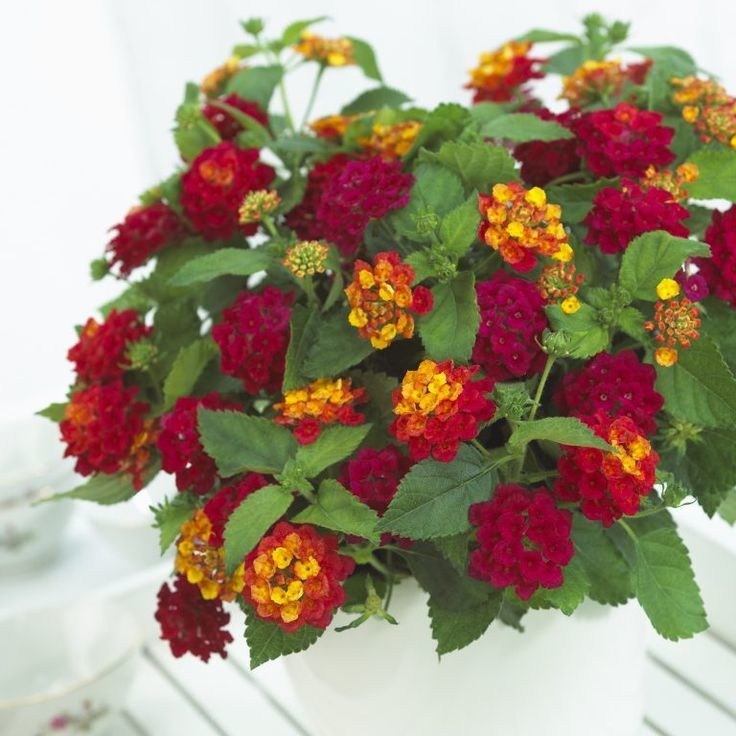lantana: (505, 296, 534, 330), (494, 538, 524, 564), (504, 346, 531, 374), (616, 385, 641, 413), (582, 469, 607, 496), (520, 551, 544, 578), (595, 383, 616, 413), (294, 556, 320, 580), (684, 276, 708, 298), (240, 311, 260, 334), (272, 549, 292, 569), (527, 186, 547, 205), (494, 331, 512, 351), (395, 286, 411, 308), (349, 307, 365, 327), (488, 206, 506, 223), (289, 583, 302, 598)
